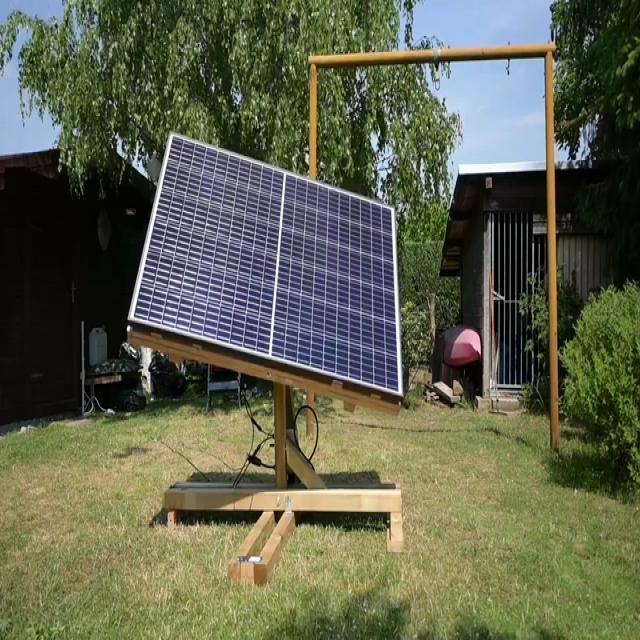Normal Solar Panel: (131, 133, 403, 399)
